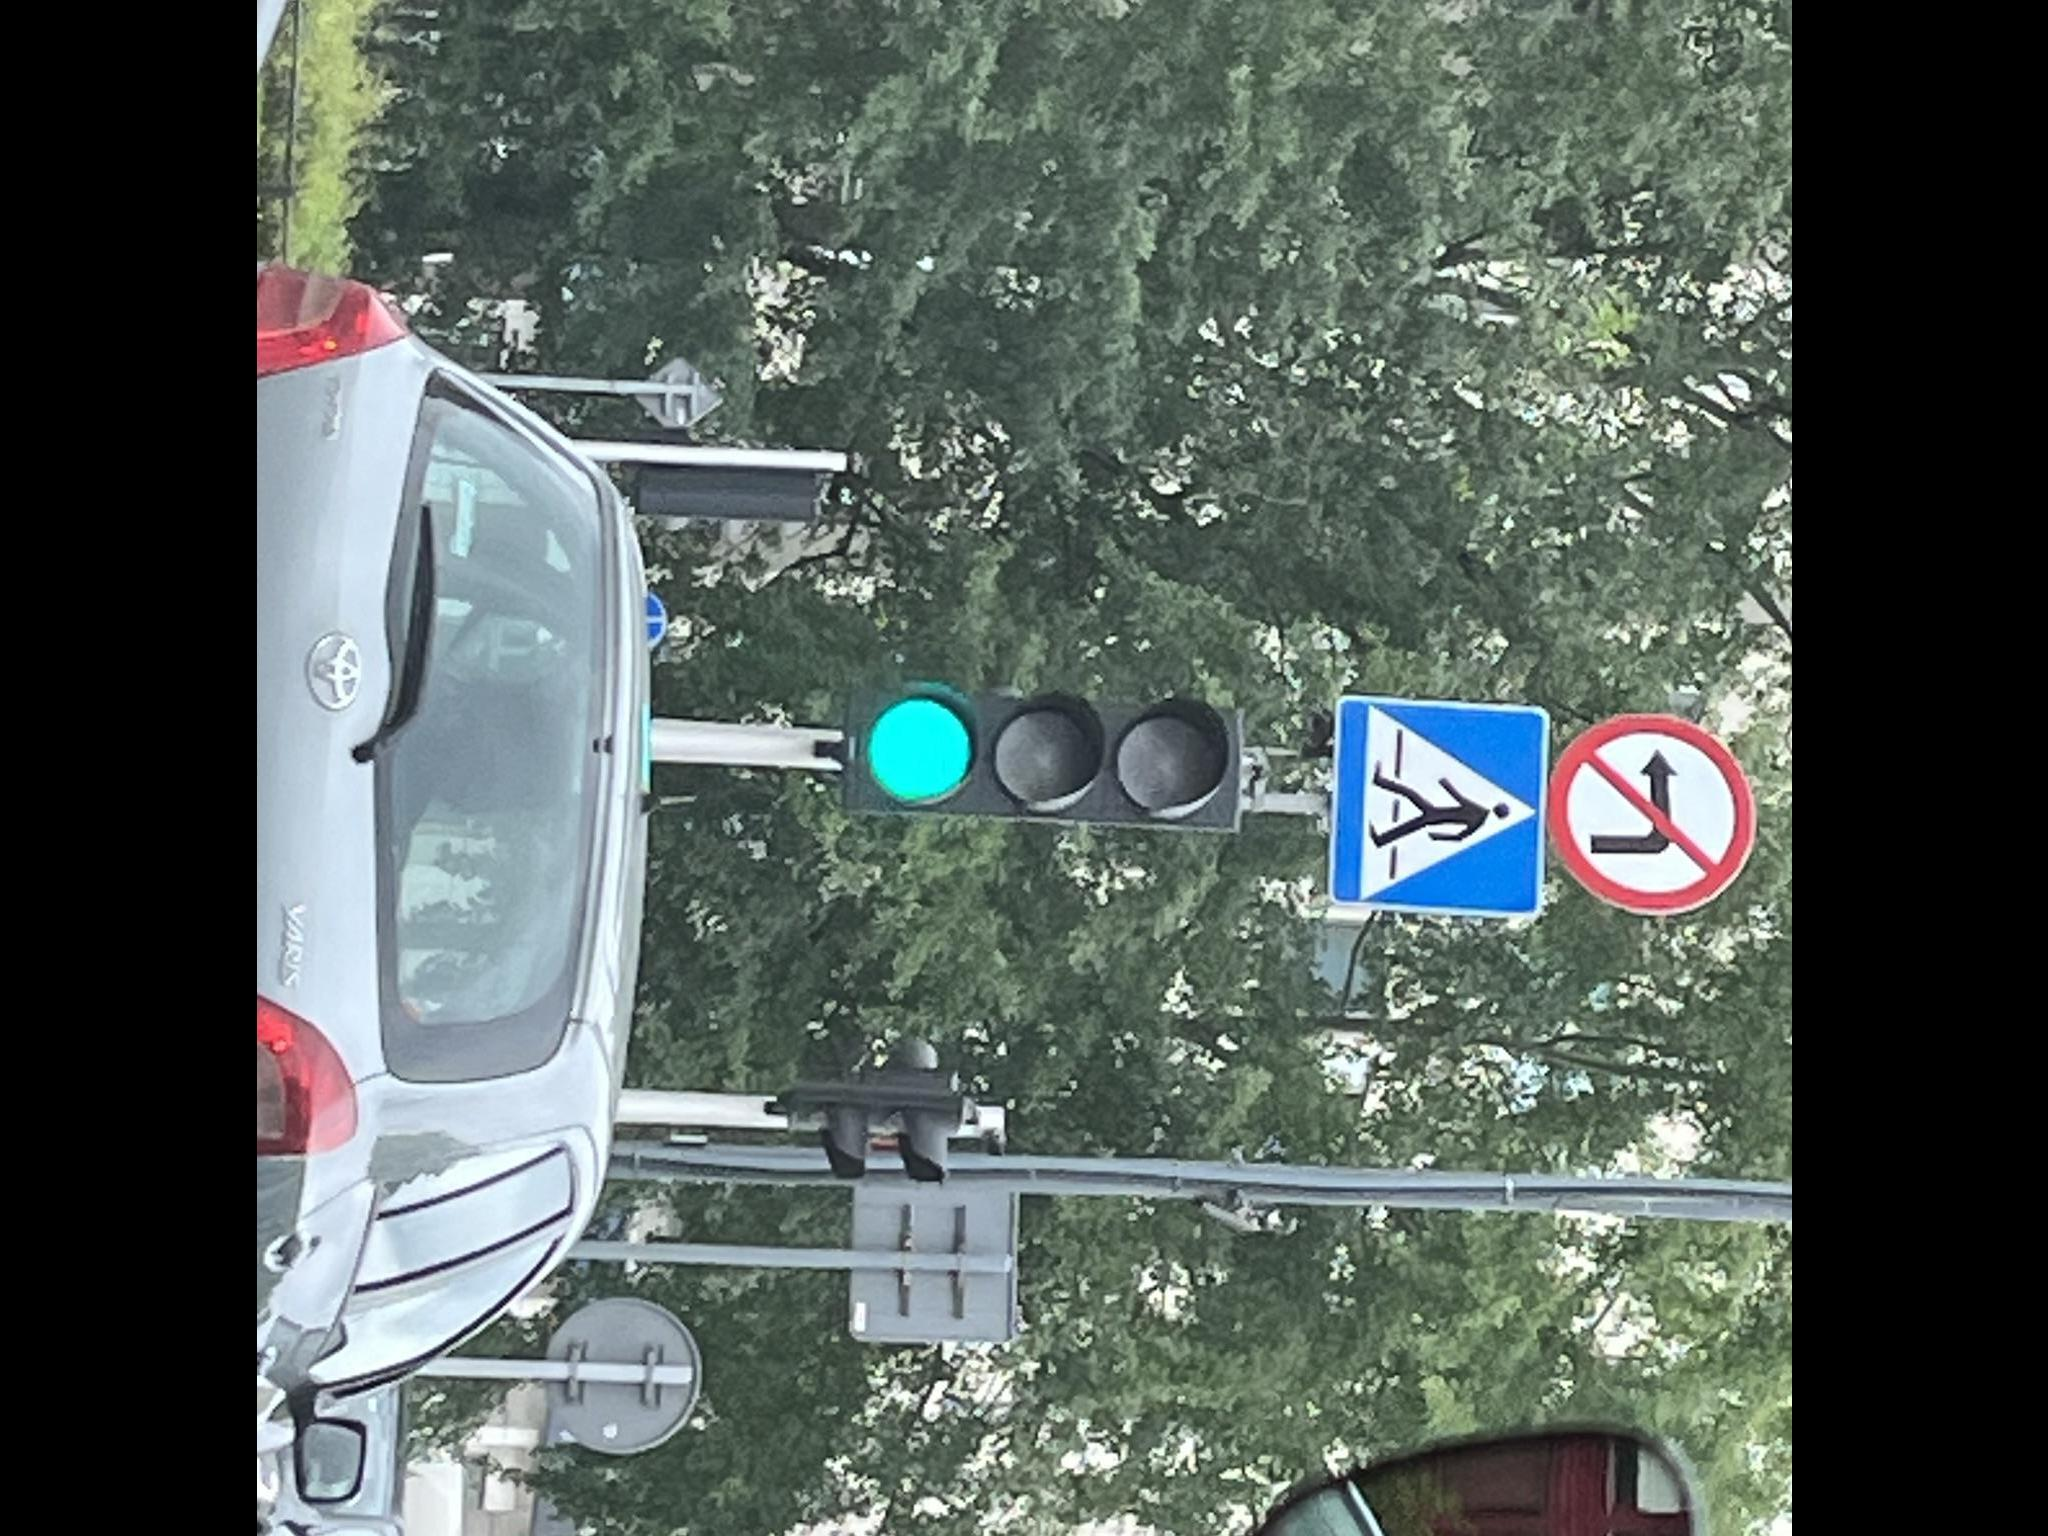information: (1324, 694, 1550, 918)
prohibitory: (1540, 710, 1756, 921)
